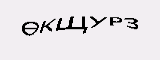З: (124, 17, 140, 32)
К: (38, 19, 54, 33)
Р: (107, 15, 122, 28)
У: (89, 14, 107, 30)
Щ: (53, 15, 89, 34)
Ө: (20, 20, 38, 37)
